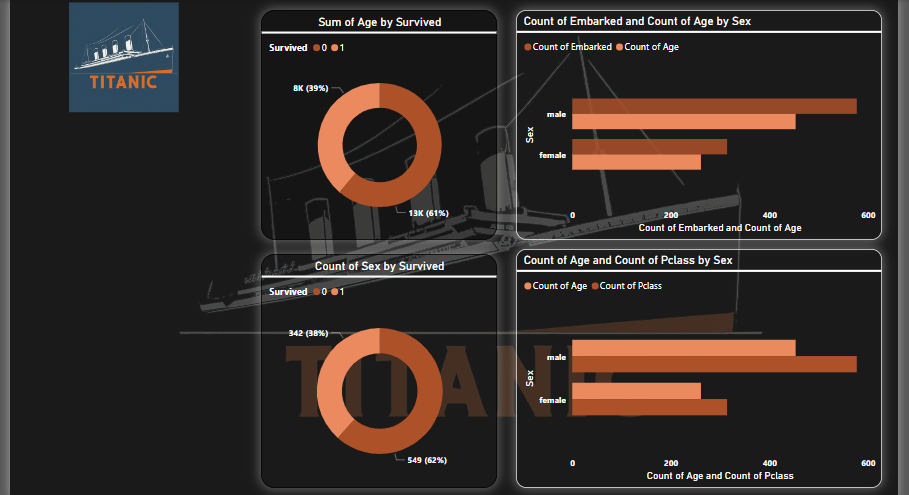

Layout of this report page (visuals, bound fields, positions):
{"tool":"powerbi","page":{"name":"Page 1","canvas":[1280,720],"ordinal":0},"visuals":[{"type":"donutChart","fields":{"Y":["Sum(train.Age)"],"Category":["train.Survived"]},"box":[361.4,15.8,339.8,331.2],"z":0},{"type":"donutChart","fields":{"Y":["CountNonNull(train.Sex)"],"Category":["train.Survived"]},"box":[361.4,367.2,339.8,337],"z":1000},{"type":"clusteredBarChart","fields":{"Category":["train.Sex"],"Y":["CountNonNull(train.Age)","CountNonNull(train.Pclass)"]},"box":[728.6,360,527,344.2],"z":3000},{"type":"clusteredBarChart","fields":{"Category":["train.Sex"],"Y":["CountNonNull(train.Embarked)","CountNonNull(train.Age)"]},"box":[728.6,15.8,527,331.2],"z":3001},{"type":"image","box":[0,0,328.3,168.5],"z":3002}]}

Visuals, with their boxes in screenshot pixels (x1, y1, x2, y2):
donutChart - Sum(train.Age) x train.Survived: x1=293, y1=32, x2=515, y2=248
donutChart - CountNonNull(train.Sex) x train.Survived: x1=293, y1=261, x2=515, y2=482
clusteredBarChart - train.Sex x CountNonNull(train.Age): x1=533, y1=257, x2=877, y2=482
clusteredBarChart - train.Sex x CountNonNull(train.Embarked): x1=533, y1=32, x2=877, y2=248
image: x1=57, y1=21, x2=271, y2=131
